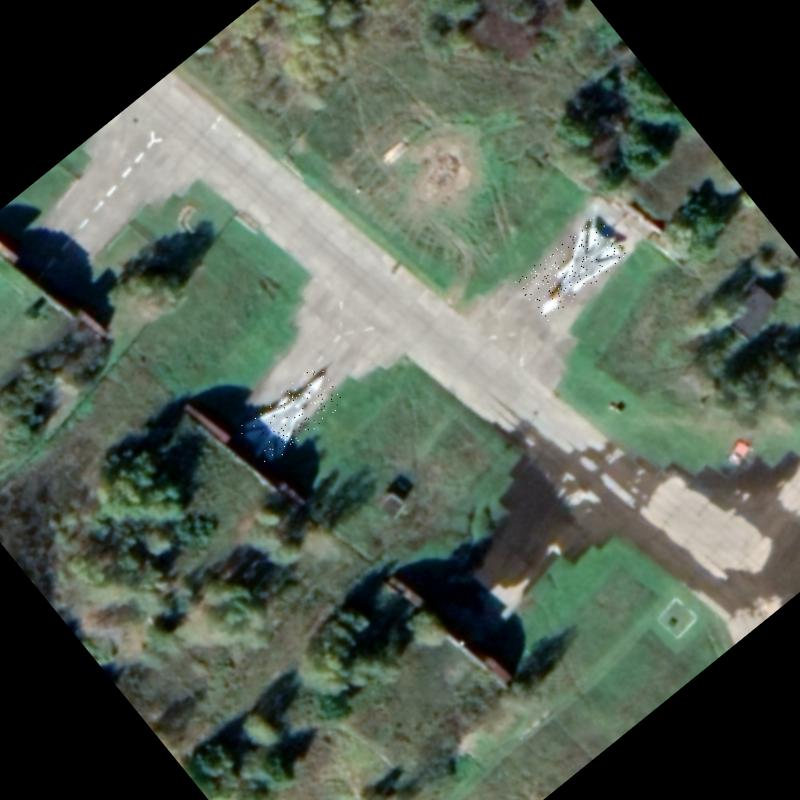A20: (514, 214, 628, 322), (236, 362, 348, 466)
